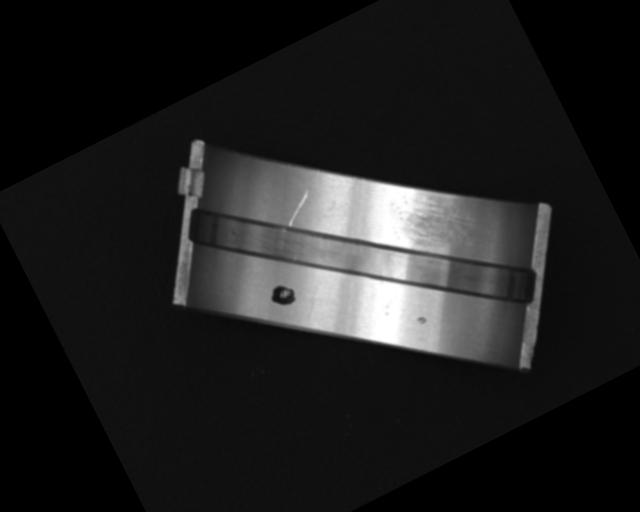blot: (265, 277, 300, 312)
bruise: (414, 312, 428, 326)
gap: (177, 84, 545, 423)
nick: (279, 189, 321, 228), (295, 283, 330, 320)
scratch: (379, 163, 482, 264)
